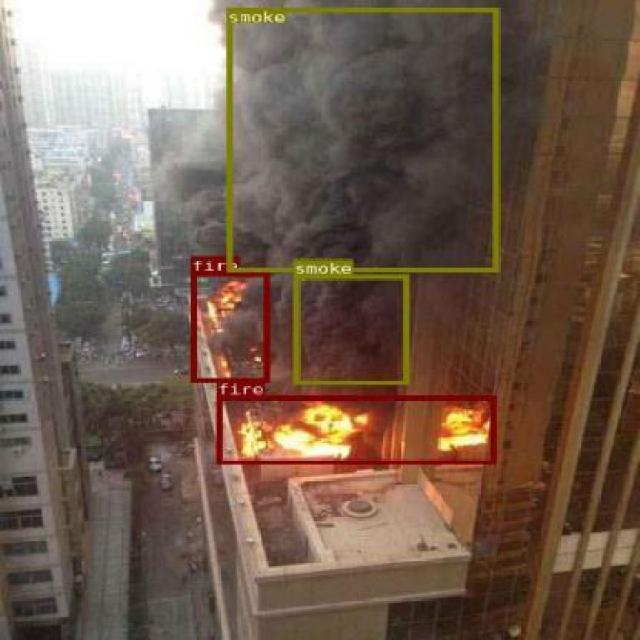Fire: (215, 394, 496, 463), (190, 270, 268, 382)
Smoke: (225, 8, 498, 270), (292, 274, 408, 383)
